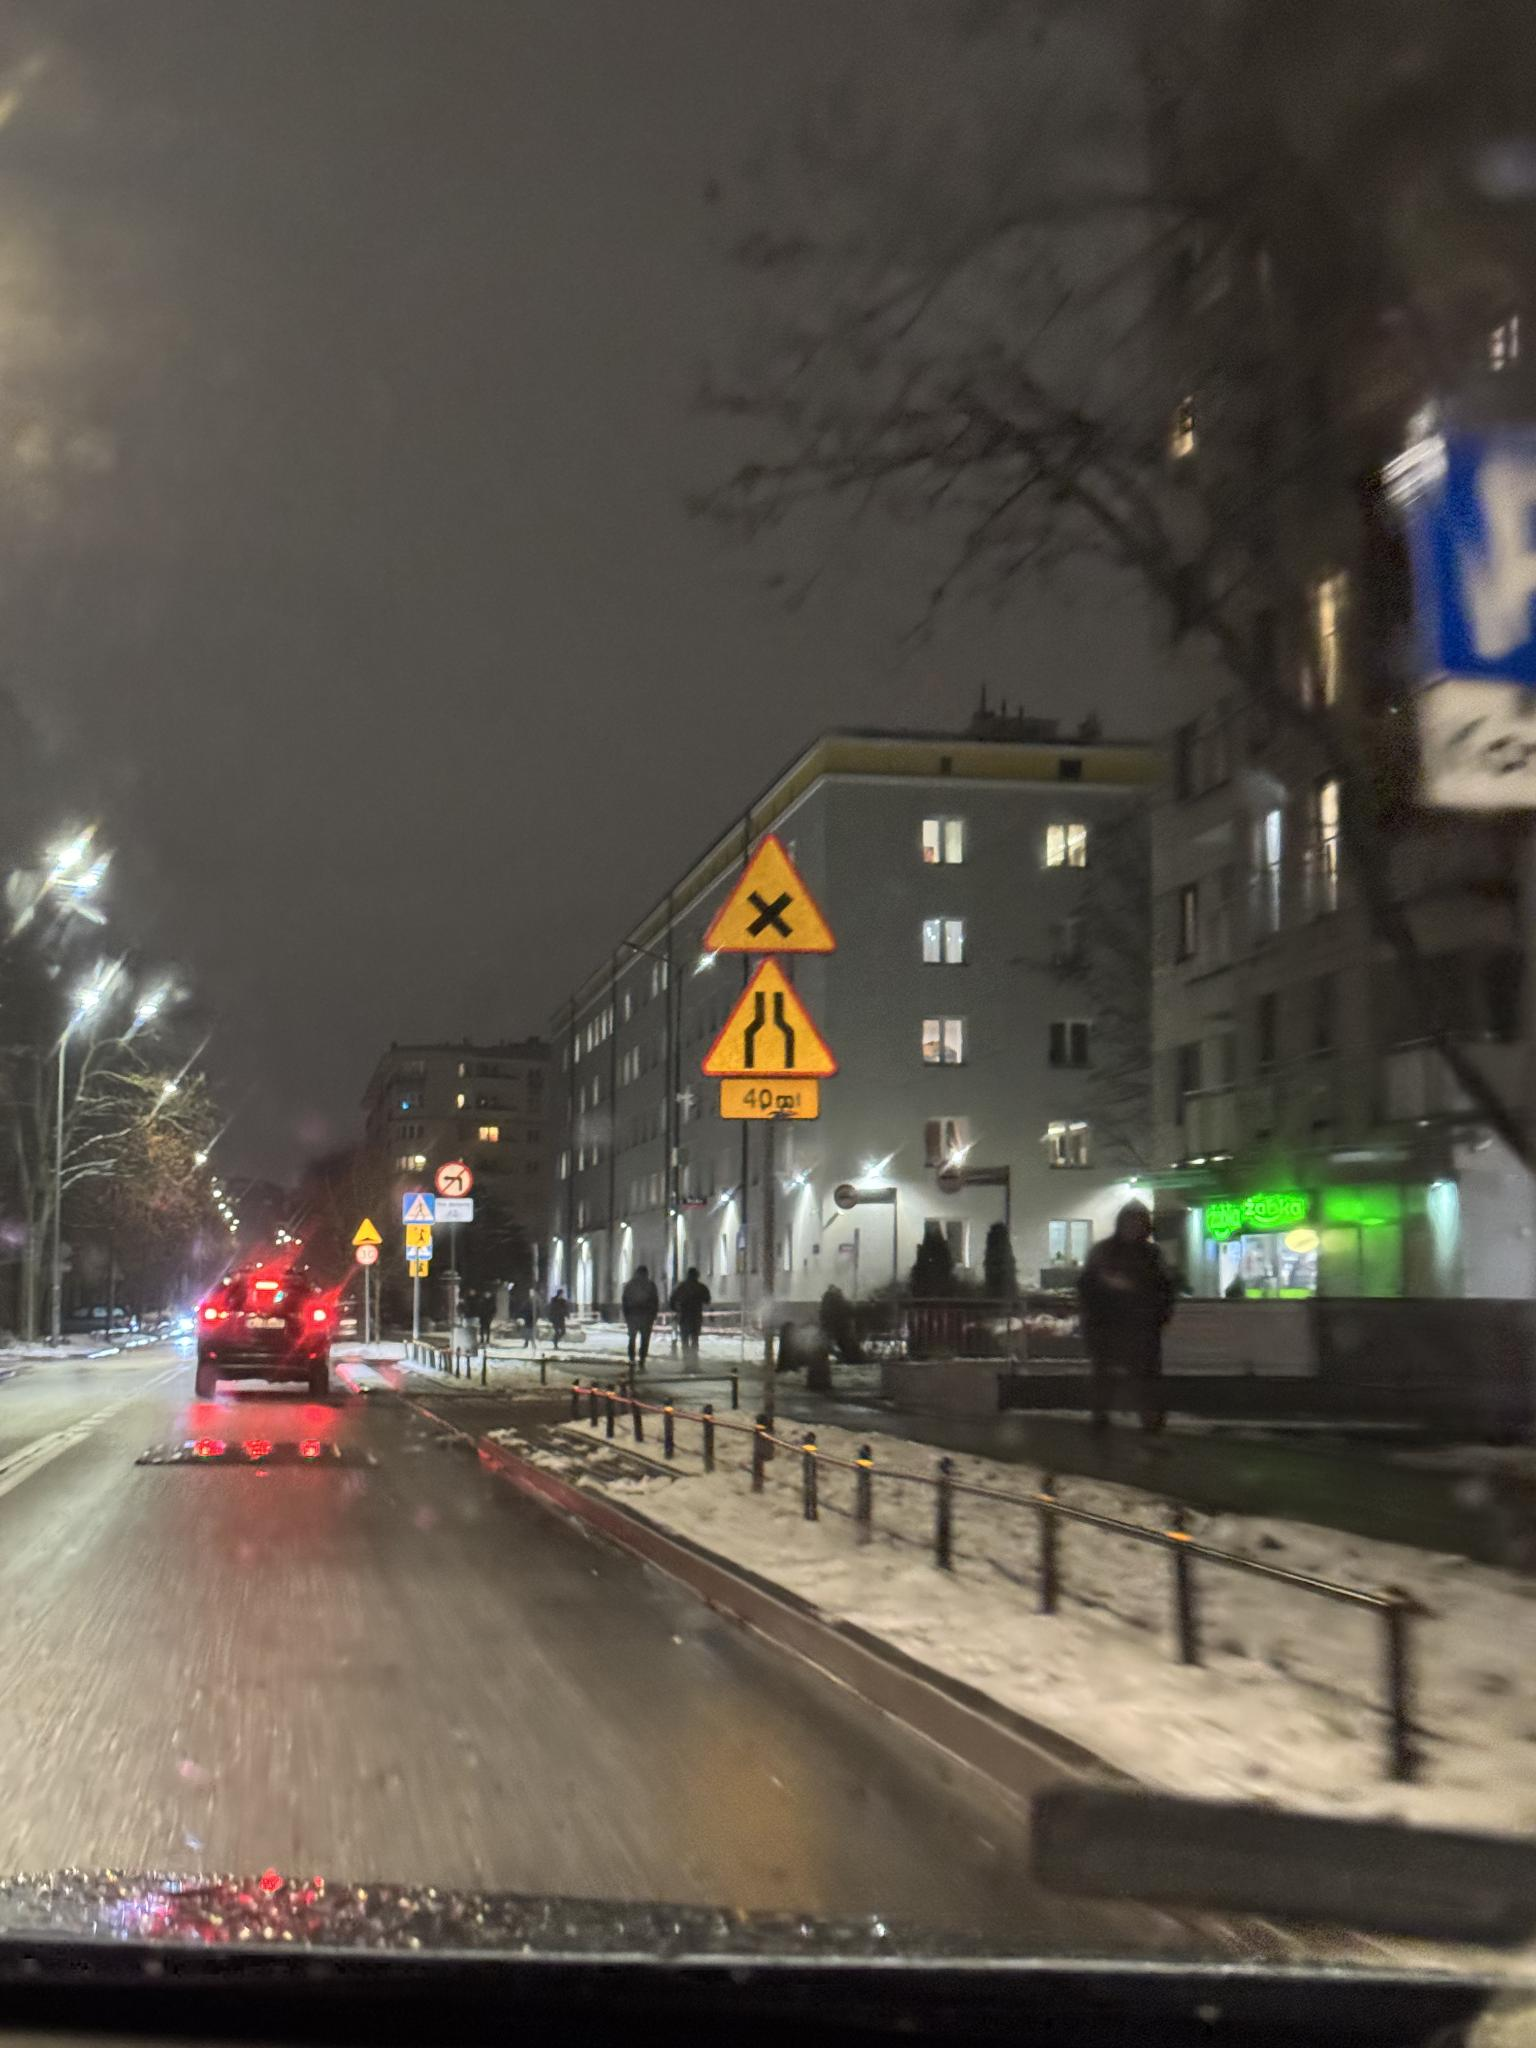information: (1428, 424, 1536, 676), (403, 1193, 436, 1224), (405, 1248, 432, 1259)
other: (1428, 677, 1536, 801), (718, 1077, 820, 1121), (436, 1198, 474, 1222), (407, 1224, 431, 1247), (410, 1261, 429, 1277)
prohibitory: (434, 1161, 473, 1198), (355, 1245, 379, 1266)
warning: (700, 956, 841, 1079), (702, 830, 839, 951), (352, 1219, 382, 1245)
